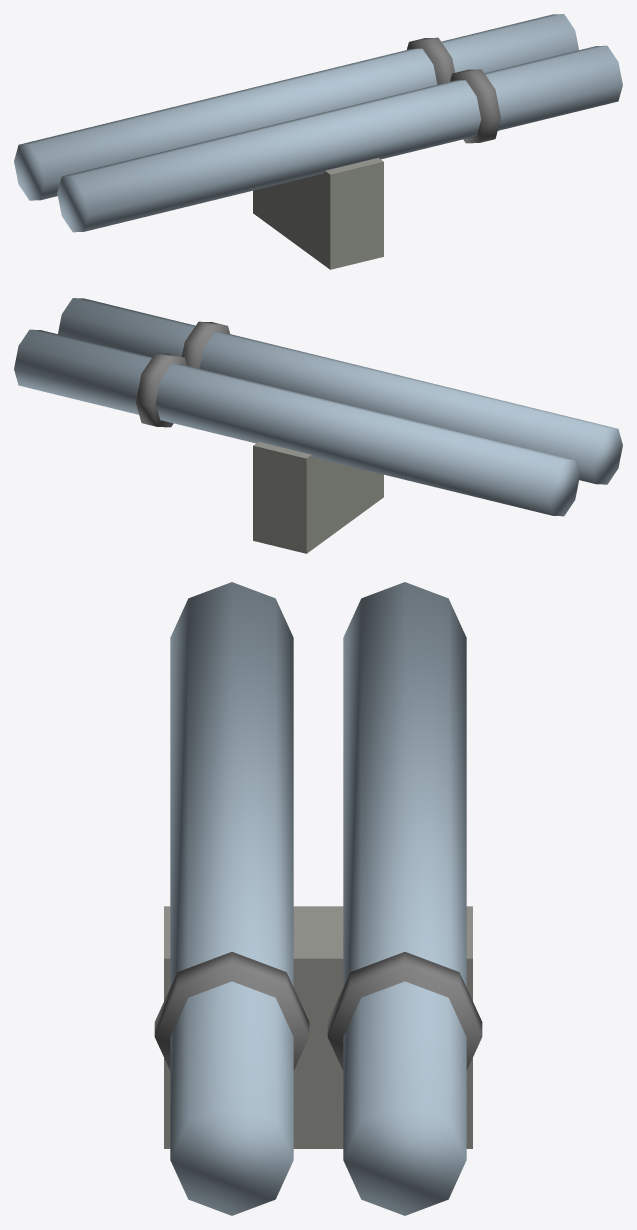
File: site_pipe.fbx
3 views of the same model, one above another, from view 1: azimuth 30°, elevation 25°; view 2: azimuth 150°, elevation 25°; view 3: azimuth 270°, elevation 25° (orthographic). The views are drawn at different scales.
Visible parts, largest first — view 1: a1063/0/site_pipe; view 2: a1063/0/site_pipe; view 3: a1063/0/site_pipe.
Boxes of the visible parts, x1,y1,x2,y2 form: a1063/0/site_pipe: (14,14,622,269); a1063/0/site_pipe: (14,298,622,553); a1063/0/site_pipe: (154,582,482,1215).
Bounding box in the file's own units: 4 × 1.05 × 1.06.
